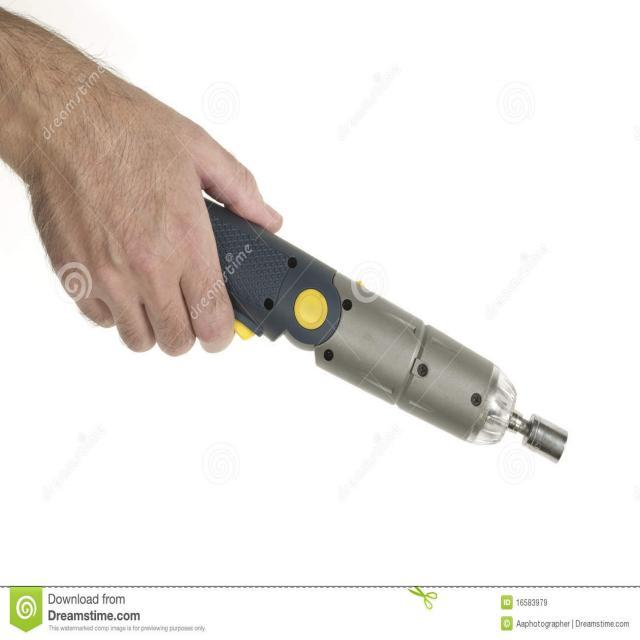screwdriver: (194, 194, 576, 474)
